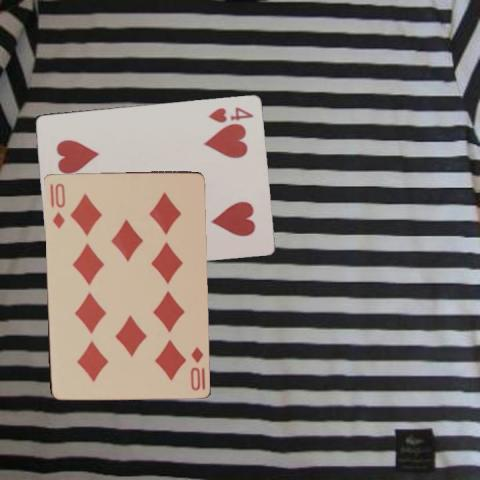10d: (187, 343, 207, 392), (49, 180, 66, 229)
4h: (206, 104, 256, 122)
